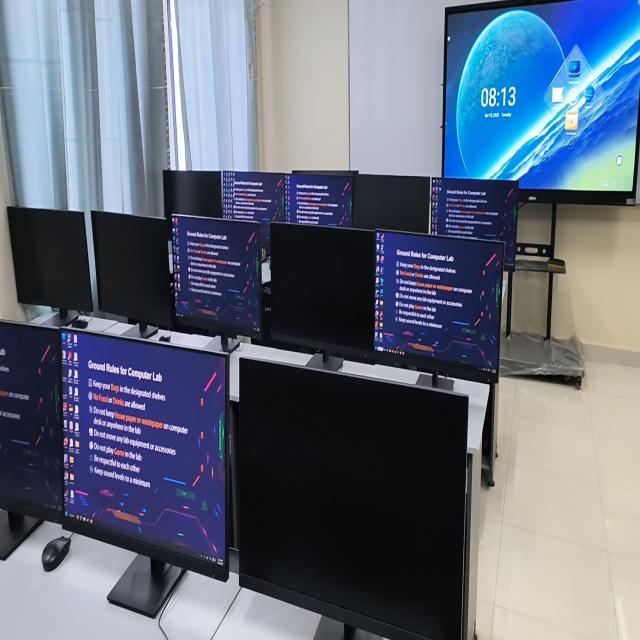Chair: (252, 283, 274, 347)
Digital board: (443, 0, 640, 386)
Monitor: (237, 358, 471, 639), (60, 329, 229, 617), (374, 232, 503, 389), (270, 222, 376, 372), (0, 321, 63, 559), (172, 216, 261, 353), (91, 211, 175, 338), (7, 207, 92, 312), (430, 178, 519, 271), (222, 172, 285, 248), (352, 174, 429, 233), (285, 173, 352, 226), (163, 170, 223, 219), (292, 170, 358, 177)
Mouse: (42, 536, 71, 571), (72, 316, 89, 329), (159, 334, 171, 342)
